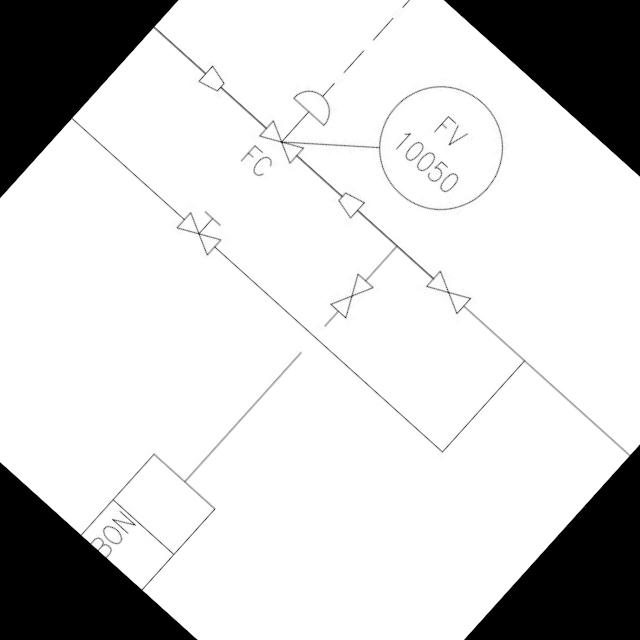FC: (252, 76, 344, 170)
GV: (418, 262, 478, 320), (323, 268, 377, 323)
HV: (170, 198, 232, 260)
SP: (190, 58, 232, 100), (328, 184, 368, 224)
